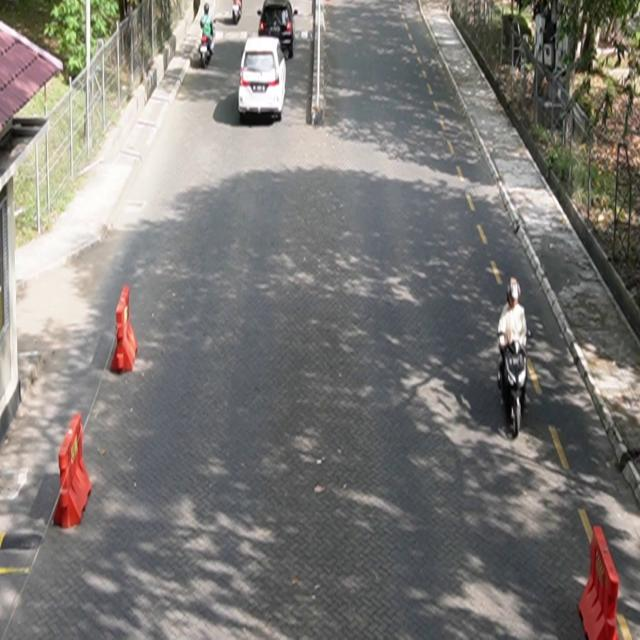car: (239, 36, 288, 122)
